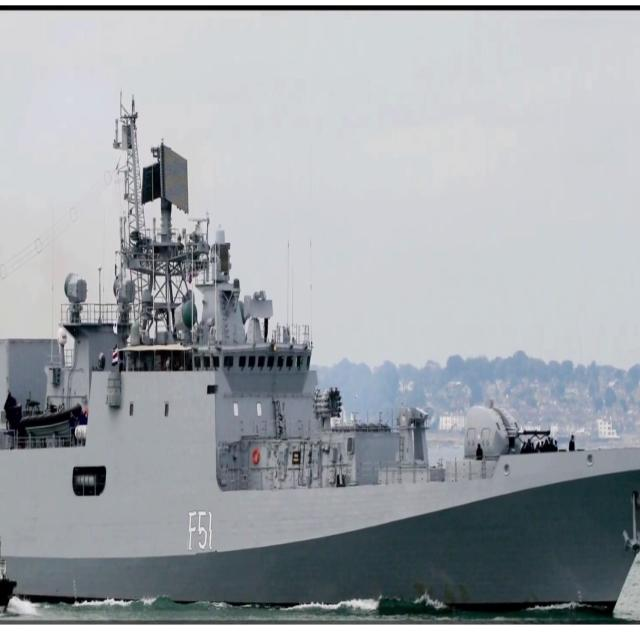OCR: (183, 506, 217, 558)
